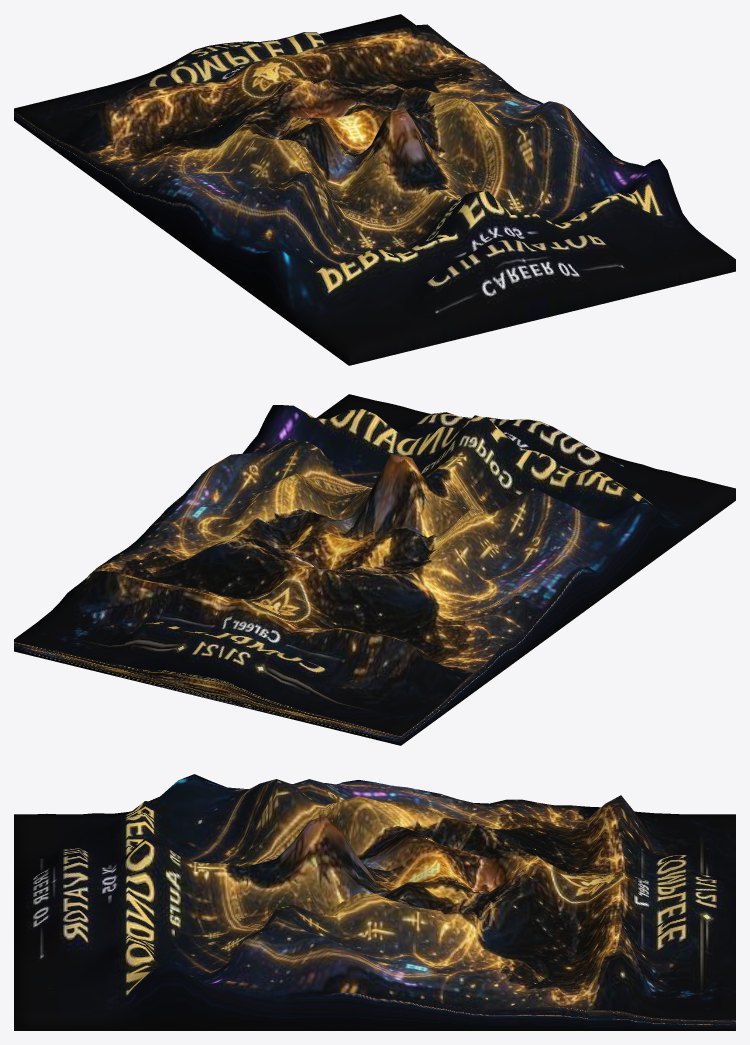
Rendered from CAREER_07_VFX_05_Perfect.glb.
3 views of the same model, one above another, from view 1: azimuth 30°, elevation 25°; view 2: azimuth 150°, elevation 25°; view 3: azimuth 270°, elevation 25° (orthographic). The views are drawn at different scales.
Parts seen in each view (by area): view 1: CAREER_07_VFX_05_Perfect; view 2: CAREER_07_VFX_05_Perfect; view 3: CAREER_07_VFX_05_Perfect.
Part boxes in pixels (x1,y1,x2,y2): CAREER_07_VFX_05_Perfect: (14,14,735,365); CAREER_07_VFX_05_Perfect: (14,394,735,745); CAREER_07_VFX_05_Perfect: (14,774,735,1030).
Bounding box in the file's own units: 2 × 0.51 × 3.
1 material, 1 textured.
